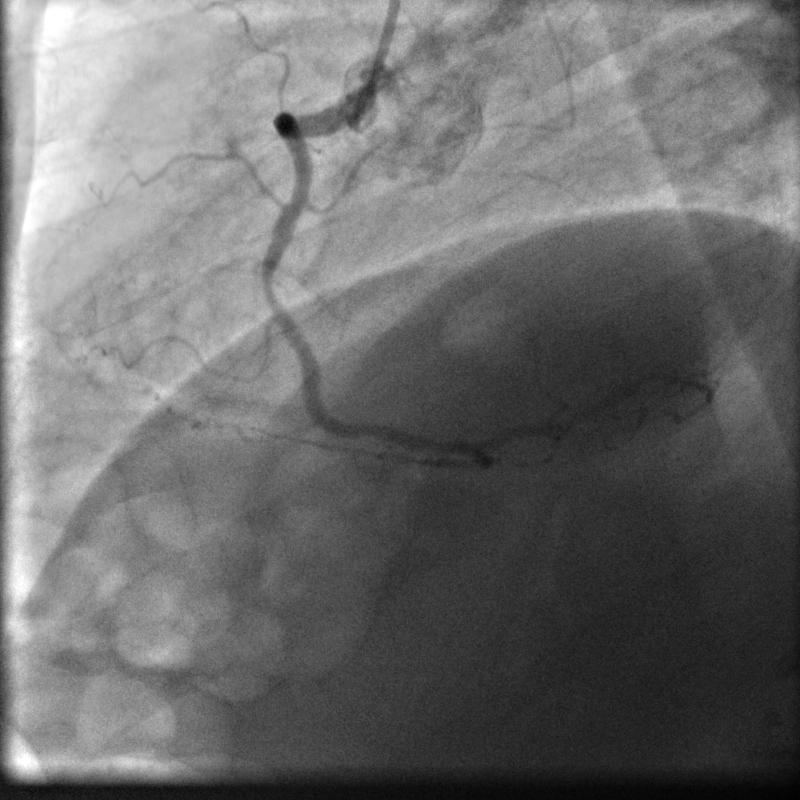Stenosis: (259, 270, 278, 303)
